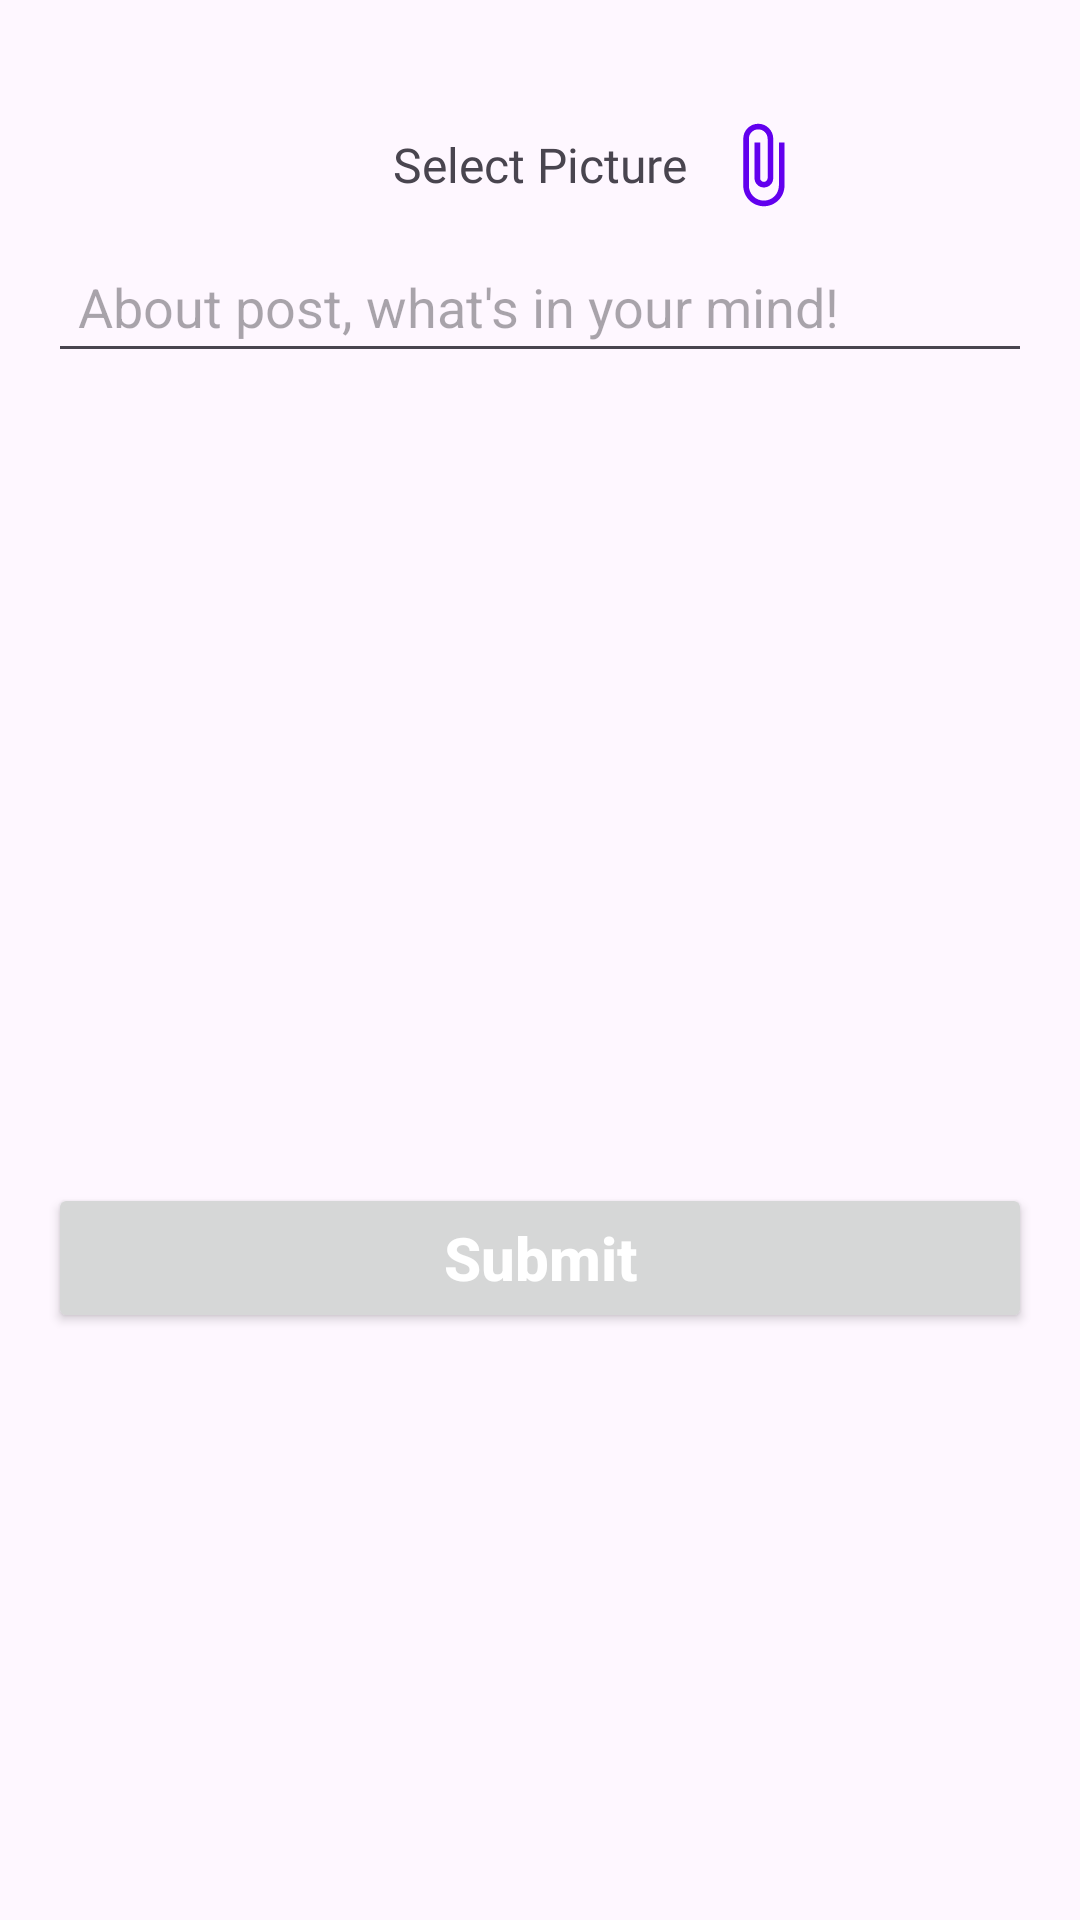

Named icons in this screenshot (1080w x 1920h) and their centers, (x,y):
attach file: (764,165)
